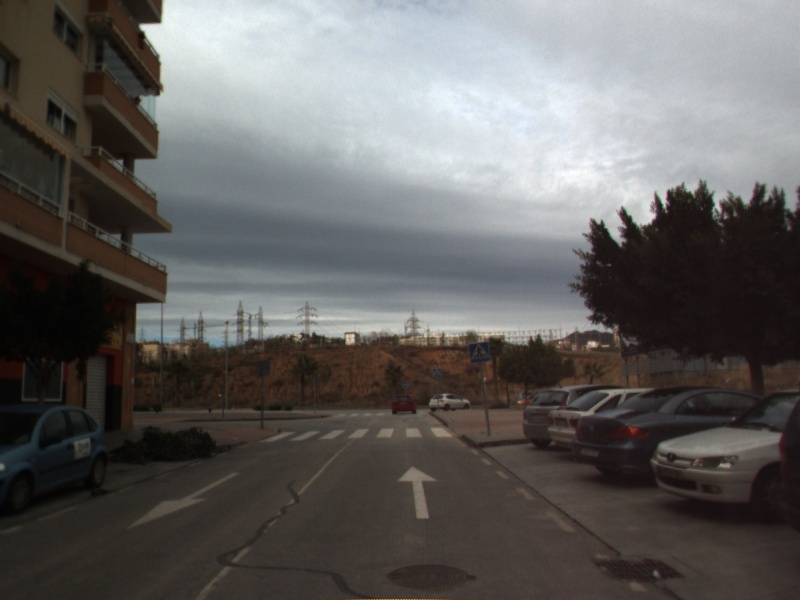STRAIGHT: (396, 464, 440, 521)
